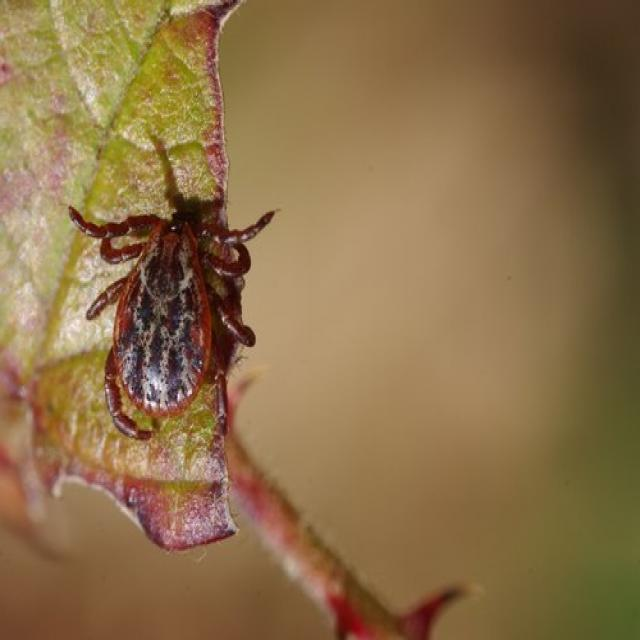Dermacentor Reticulatus-M: (68, 205, 275, 440)
